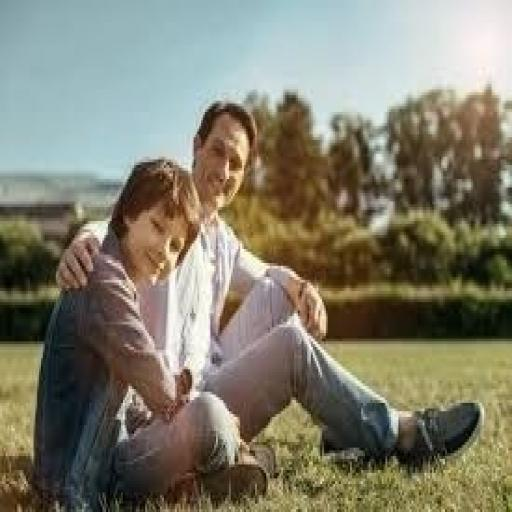hugging: (52, 95, 486, 490), (30, 154, 268, 509)
